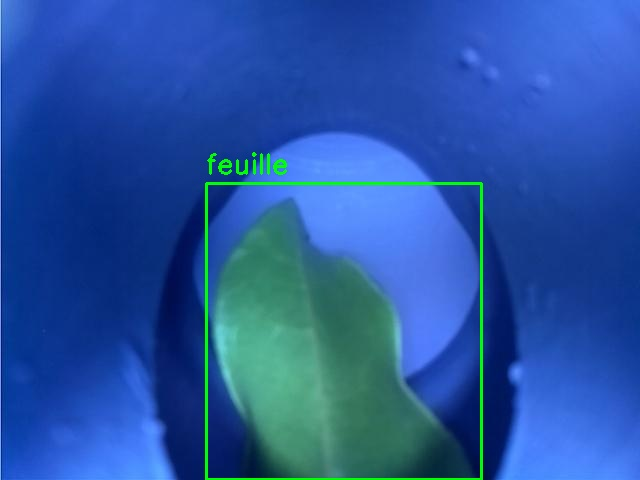feuille: (206, 183, 481, 479)
